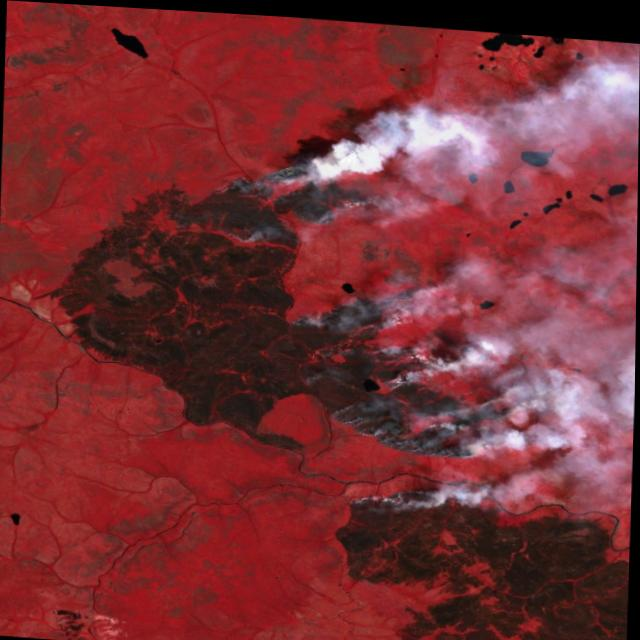fire: (172, 145, 544, 461), (337, 464, 479, 522)
